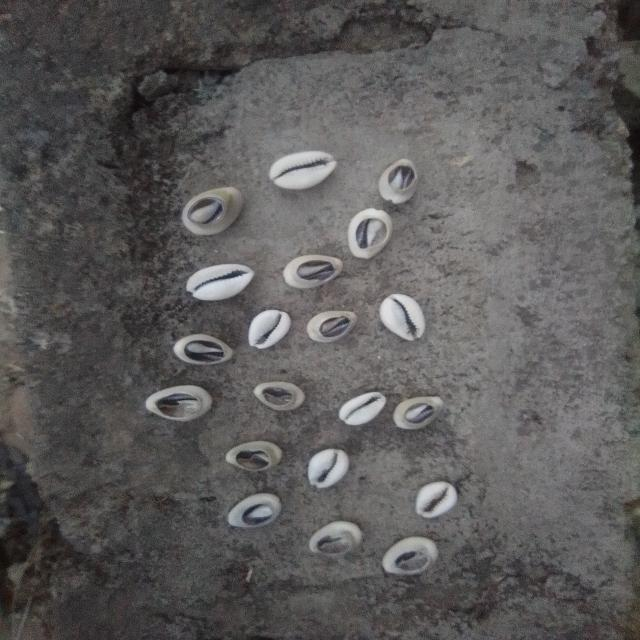facedown: (179, 183, 245, 238), (143, 382, 218, 423), (344, 206, 396, 260), (379, 537, 441, 581), (278, 254, 346, 290), (226, 490, 283, 531), (223, 439, 286, 475), (171, 333, 239, 366), (377, 156, 422, 205), (392, 393, 449, 431), (308, 522, 364, 560), (249, 380, 310, 412), (302, 310, 362, 342)
faceup: (266, 148, 340, 194), (184, 261, 256, 302), (378, 290, 432, 342), (246, 306, 294, 351), (305, 445, 352, 488), (413, 480, 461, 518), (337, 390, 387, 426)
